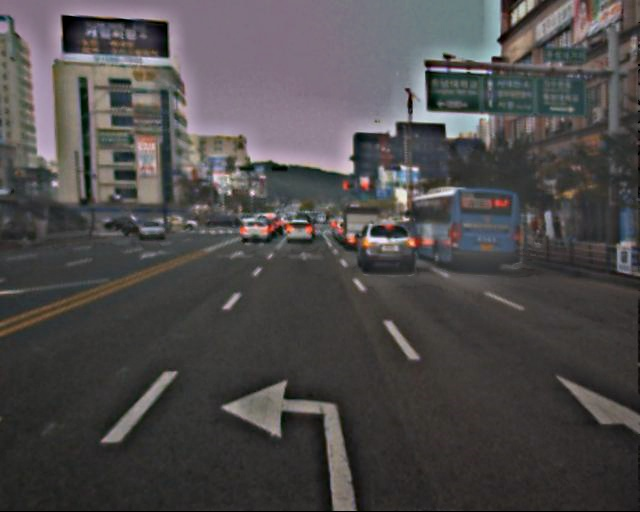person: (549, 215, 565, 253), (529, 213, 545, 245)
